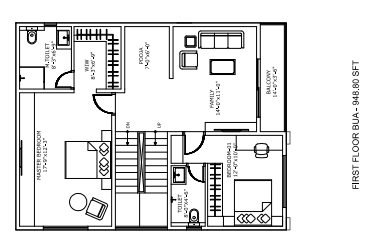door: (183, 130, 205, 156), (93, 93, 116, 115), (54, 70, 75, 89), (187, 163, 206, 184)
